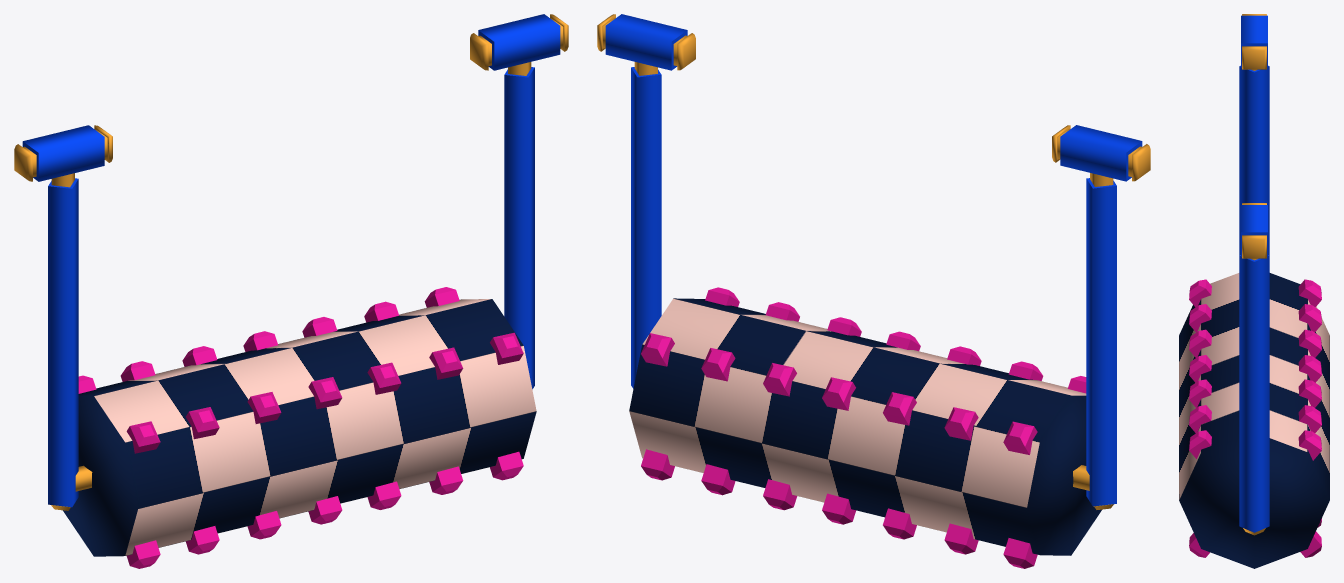
Rendered from OBS0110020.fbx.
The picture shows the model from 3 angles, left to right: view 1: azimuth 30°, elevation 25°; view 2: azimuth 150°, elevation 25°; view 3: azimuth 270°, elevation 25°; orthographic projection. The views are drawn at different scales.
Visible parts, largest first — view 1: smOBS0110020; view 2: smOBS0110020; view 3: smOBS0110020.
Part boxes in pixels (left/top/right/bottom): smOBS0110020: left=14, top=14, right=568, bottom=568; smOBS0110020: left=597, top=14, right=1150, bottom=568; smOBS0110020: left=1179, top=14, right=1329, bottom=568.
Bounding box in the file's own units: 976 × 731 × 276.
1 material, 1 textured.
